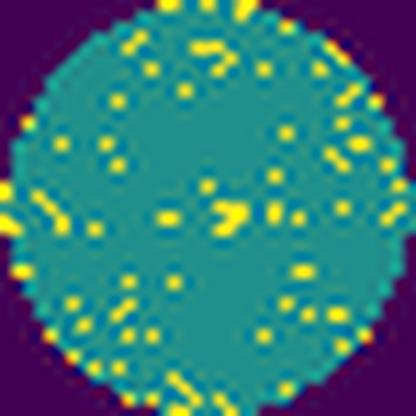Center: (213, 190, 250, 242)
